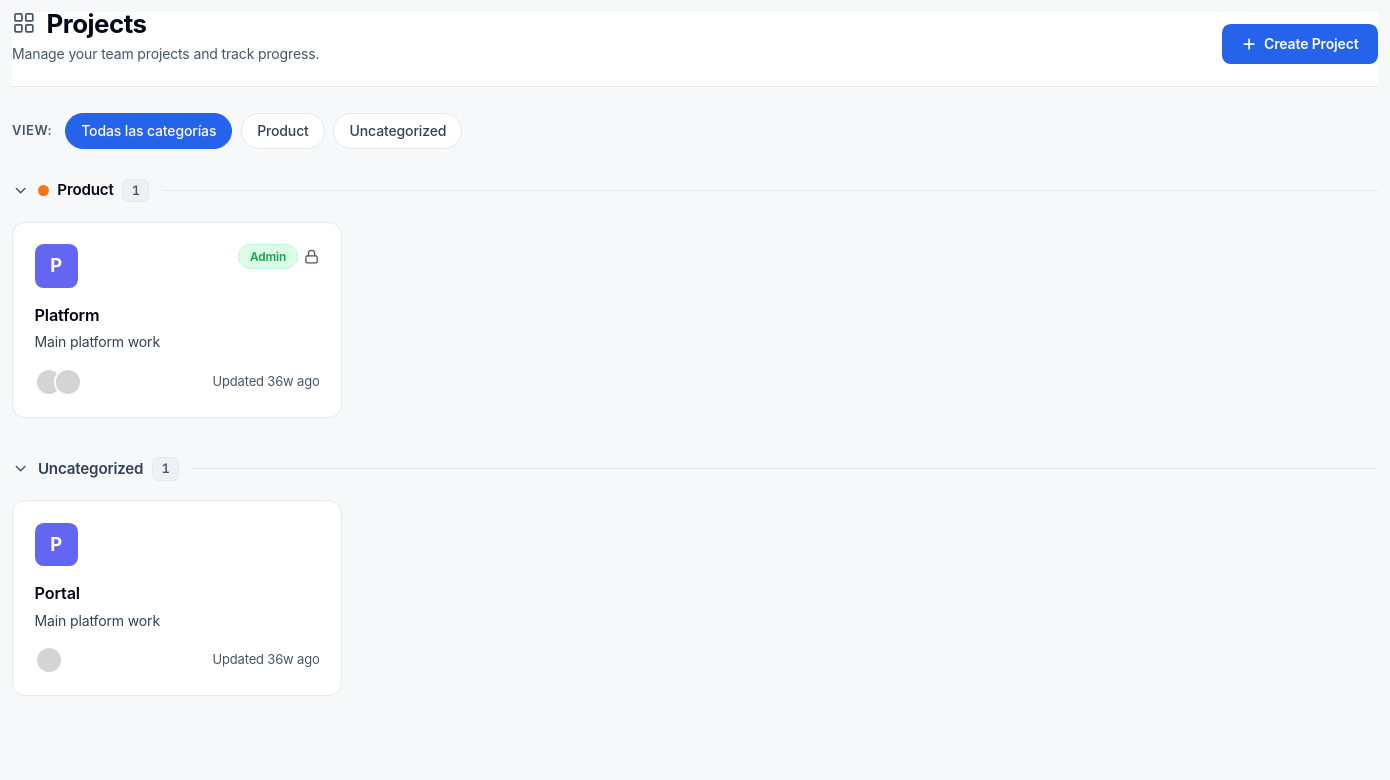
Test: WorkspaceDashboardPage › renders grouped projects, supports category filters and collapses groups
The width and height of the screenshot is (1390, 780).
Expected: the heading "Platform" is shown, [35,305,99,325]
Expected: the heading "Portal" is shown, [35,583,80,603]
Click the button "Product" at coordinates (283, 131), box [241,113,325,149]
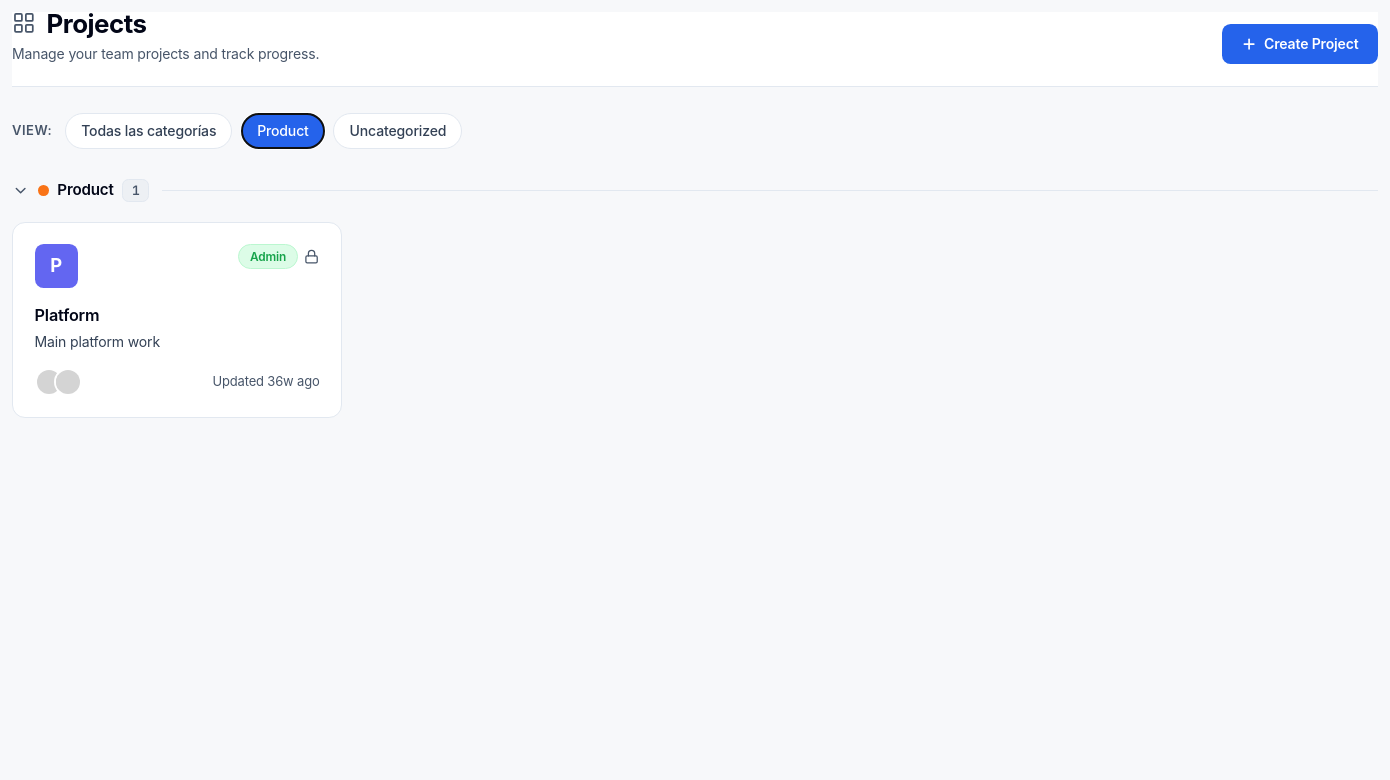
Expected: the heading "Platform" is shown, [35,305,99,325]
Expected: the link "Portal" is gone
Click the button "Product 1" at coordinates (695, 191), box [12,175,1378,207]
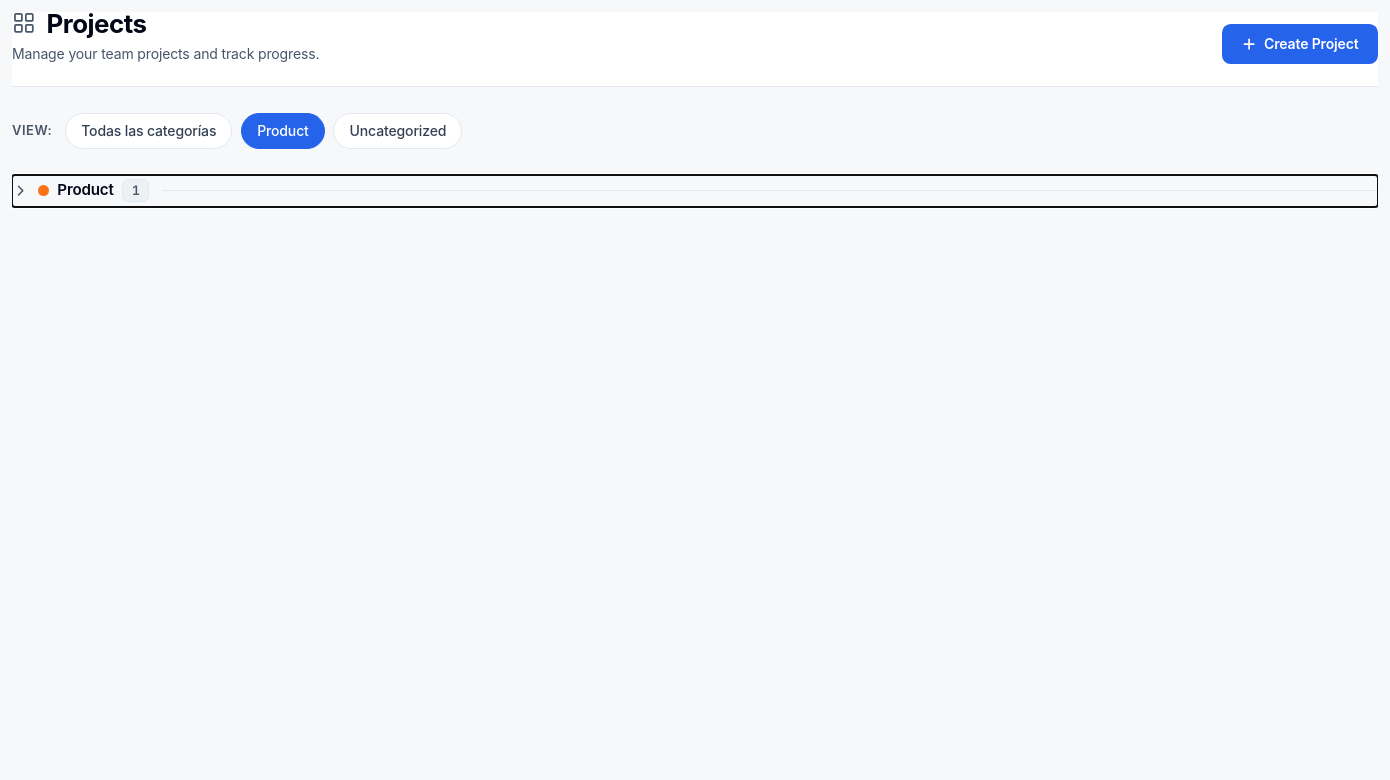
Expected: the link "Platform" is gone
